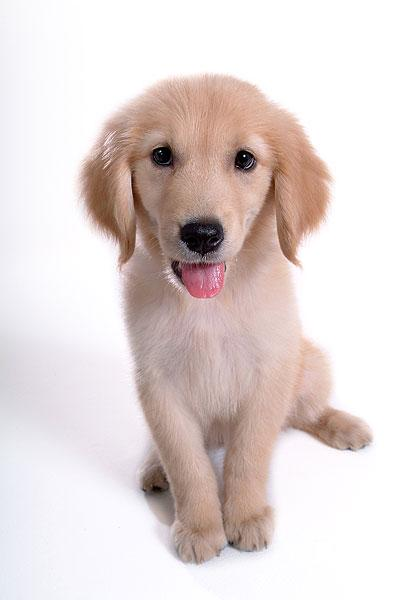dog: (66, 68, 351, 326)
